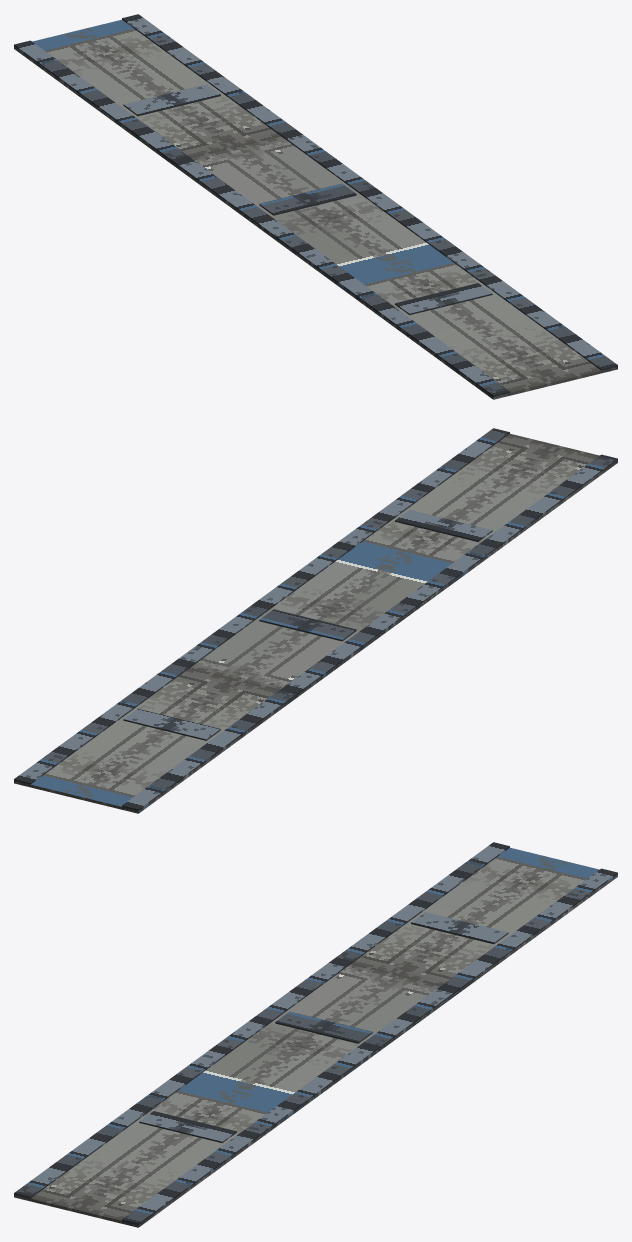
Rendered from fx_charger_lane.glb.
3 renders of one model, top to bottom at view 1: azimuth 30°, elevation 25°; view 2: azimuth 150°, elevation 25°; view 3: azimuth 330°, elevation 25°, orthographic.
Visible parts, largest first — view 1: lane_floor, lane_edge_-1, lane_edge_1, lane_bar_1, lane_bar_2, lane_bar_0; view 2: lane_floor, lane_edge_-1, lane_edge_1, lane_bar_1, lane_bar_2, lane_bar_0; view 3: lane_floor, lane_edge_1, lane_edge_-1, lane_bar_1, lane_bar_2, lane_bar_0.
Boxes of the visible parts, x1,y1,x2,y2 form: lane_floor: (14,19,617,399); lane_edge_-1: (14,40,509,399); lane_edge_1: (122,14,617,372); lane_bar_1: (259,183,356,215); lane_bar_2: (123,84,220,116); lane_bar_0: (395,283,492,315); lane_floor: (14,433,617,813); lane_edge_-1: (122,454,617,813); lane_edge_1: (14,428,509,786); lane_bar_1: (259,609,356,641); lane_bar_2: (123,709,220,740); lane_bar_0: (395,510,492,541); lane_floor: (14,847,617,1227); lane_edge_1: (122,868,617,1227); lane_edge_-1: (14,842,509,1200); lane_bar_1: (275,1011,372,1043); lane_bar_2: (411,912,508,944); lane_bar_0: (139,1111,236,1143).
Bounding box in the file's own units: 0.9 × 0.03 × 6.
Materials: 2 (2 with a texture image).
